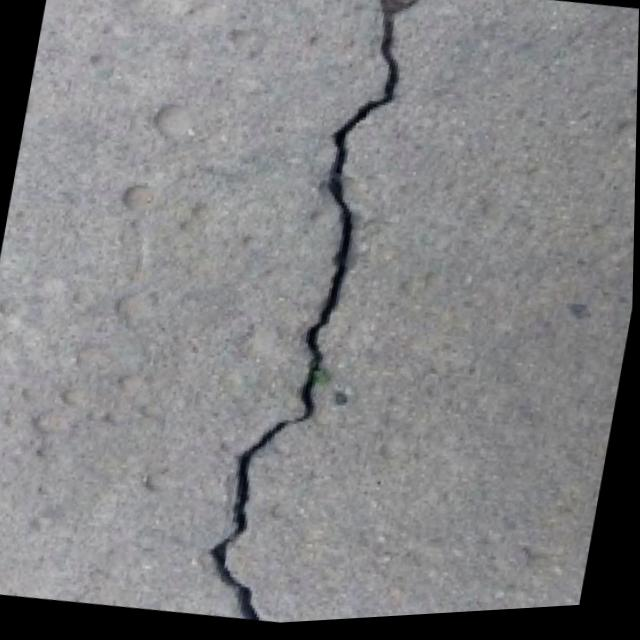Crack: (201, 0, 435, 630)
